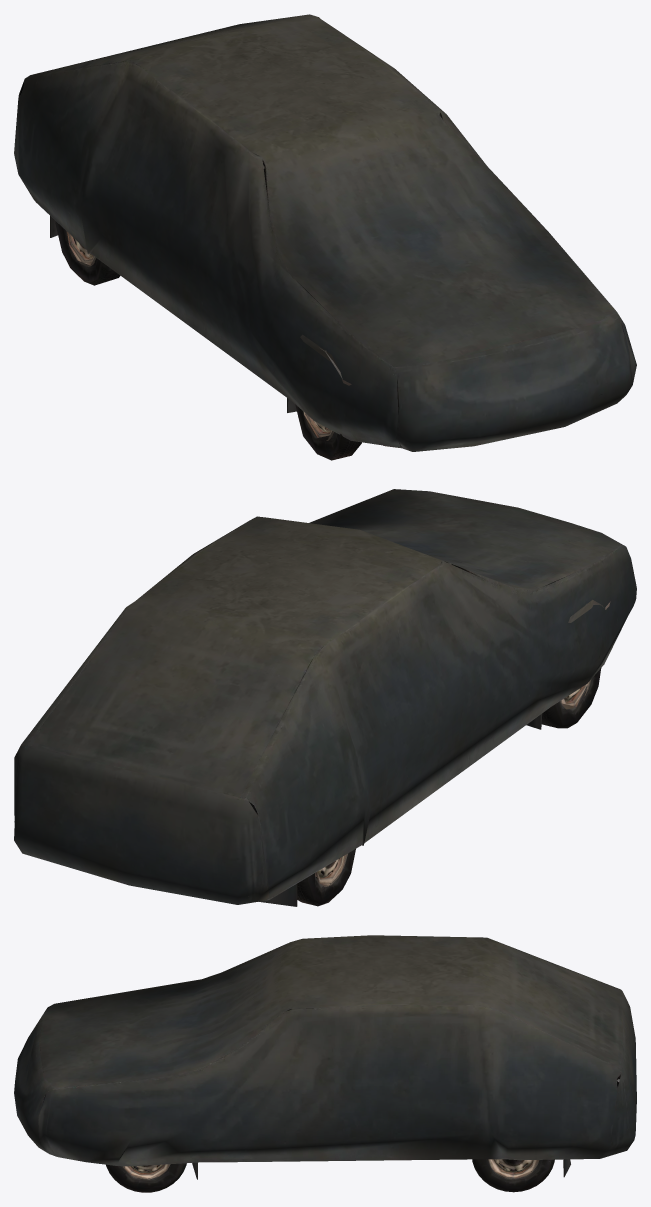
File: covered_car.glb
3 renders of one model, top to bottom at view 1: azimuth 30°, elevation 25°; view 2: azimuth 150°, elevation 25°; view 3: azimuth 270°, elevation 25°, orthographic. The views are drawn at different scales.
Visible parts, largest first — view 1: covered_car_wheel_02; view 2: covered_car_wheel_02; view 3: covered_car_wheel_02, covered_car_wheel_01.
Part boxes in pixels (left/top/right/bottom): covered_car_wheel_02: left=14, top=14, right=636, bottom=460; covered_car_wheel_02: left=14, top=489, right=636, bottom=906; covered_car_wheel_02: left=14, top=935, right=636, bottom=1179; covered_car_wheel_01: left=106, top=1159, right=554, bottom=1192.
Size of the model in its own units: 1.79 by 1.41 by 4.38.
Materials: 1 (1 with a texture image).
